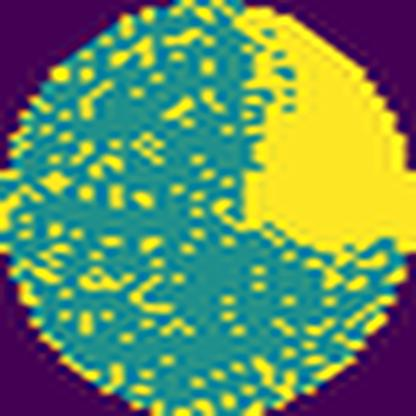Edge-Loc: (224, 2, 416, 257)
